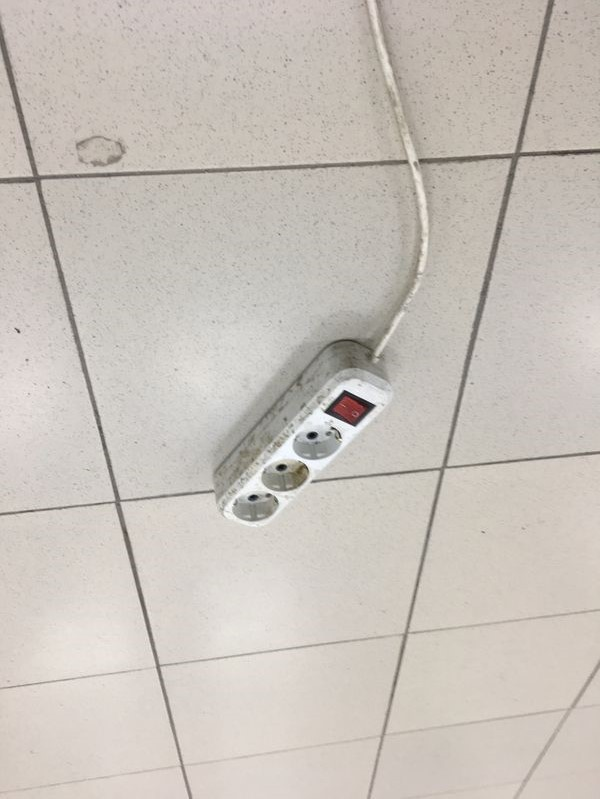socket: (201, 335, 400, 536)
